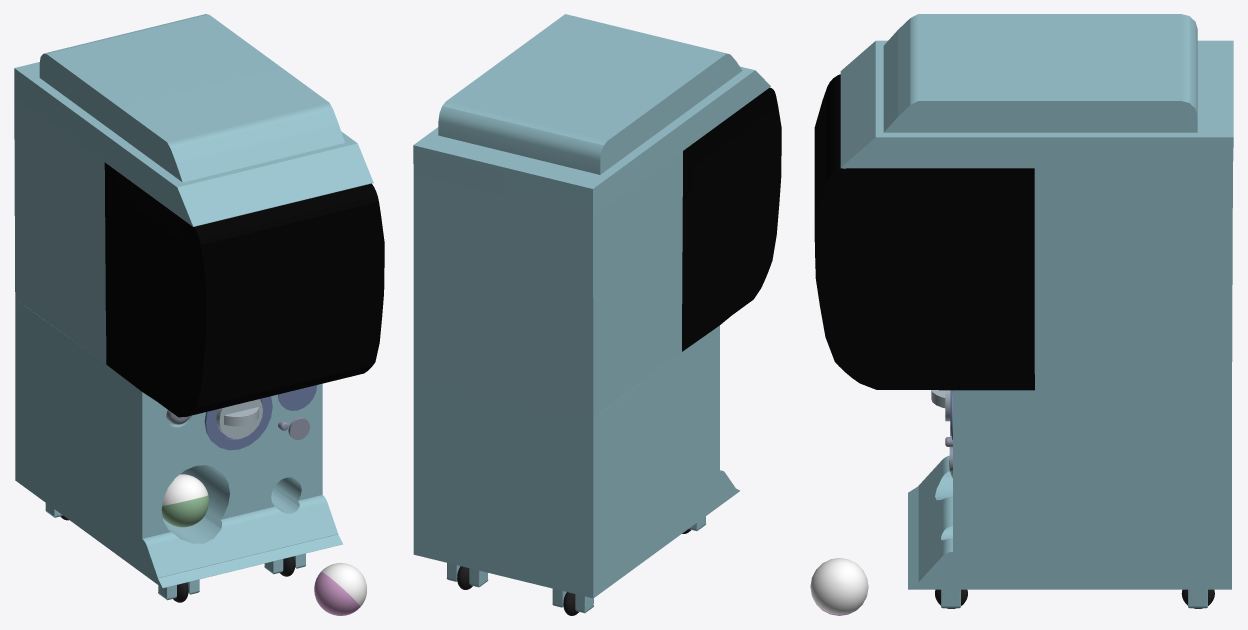
File: Gachapon Machine.fbx
3 views of the same model, side by side, from view 1: azimuth 30°, elevation 25°; view 2: azimuth 150°, elevation 25°; view 3: azimuth 270°, elevation 25° (orthographic). The views are drawn at different scales.
Parts seen in each view (by area): view 1: pCube17, pasted__pasted__gacha_ball, pasted__pasted__pCylinder2 (×3), gacha_ball, group1_pasted__group_pasted__pasted__pCylinder2; view 2: pCube17; view 3: pCube17, pasted__pasted__gacha_ball.
Boxes of the visible parts, left/top/right/bottom form: pCube17: left=14, top=14, right=384, bottom=602; pasted__pasted__gacha_ball: left=314, top=563, right=366, bottom=615; pasted__pasted__pCylinder2 (×3): left=216, top=385, right=316, bottom=438; gacha_ball: left=161, top=474, right=208, bottom=527; group1_pasted__group_pasted__pasted__pCylinder2: left=204, top=396, right=272, bottom=450; pCube17: left=413, top=14, right=781, bottom=615; pCube17: left=814, top=14, right=1233, bottom=608; pasted__pasted__gacha_ball: left=810, top=558, right=868, bottom=615.
Bounding box in the file's own units: 3.58 × 9.05 × 6.61.
